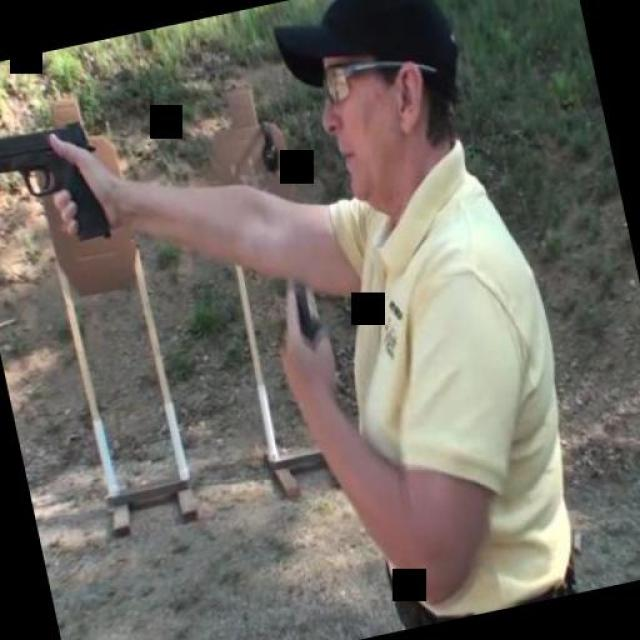gun: (0, 108, 118, 262)
